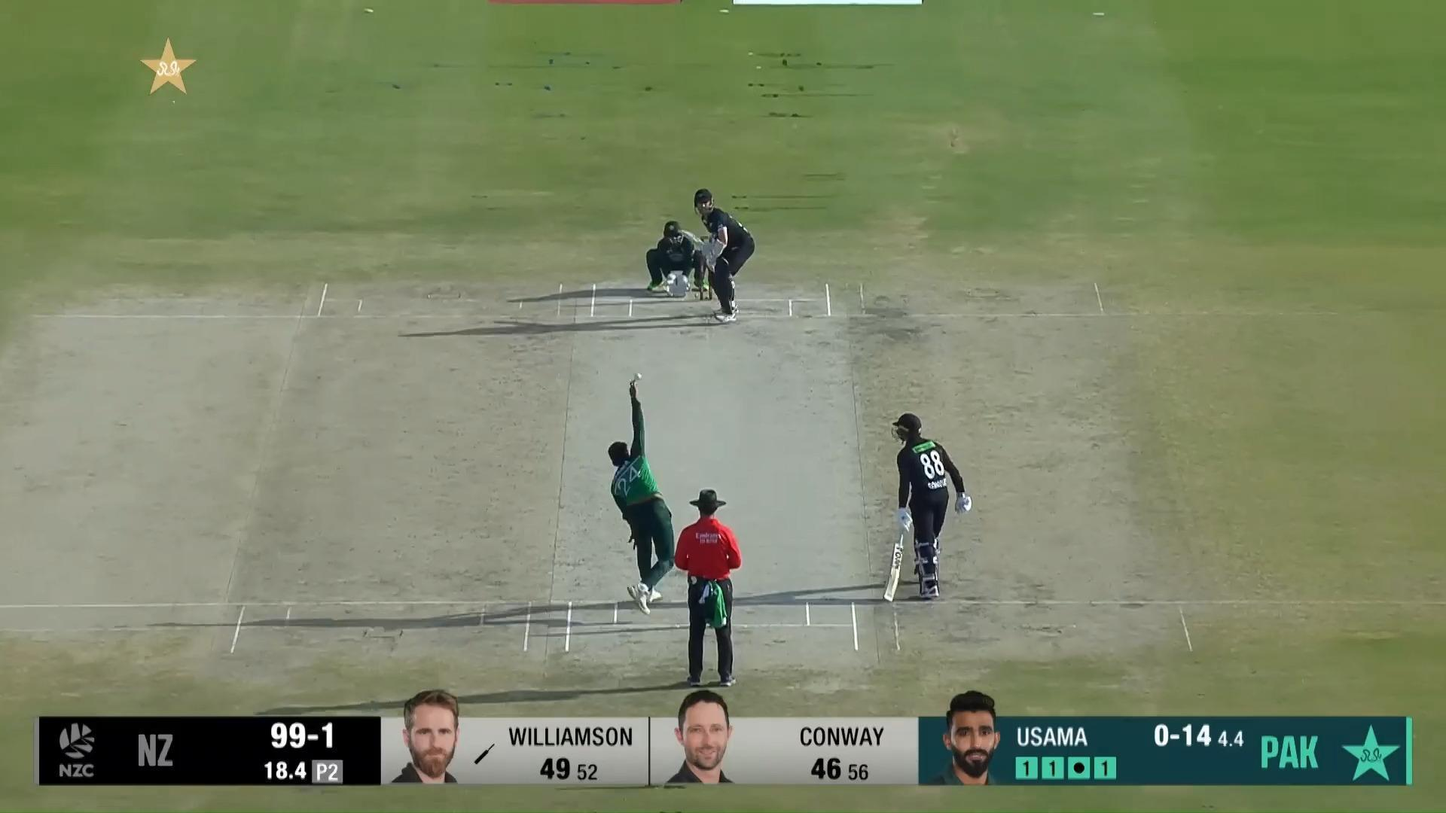BM 1: (677, 187, 756, 324)
BO: (607, 378, 680, 617)
